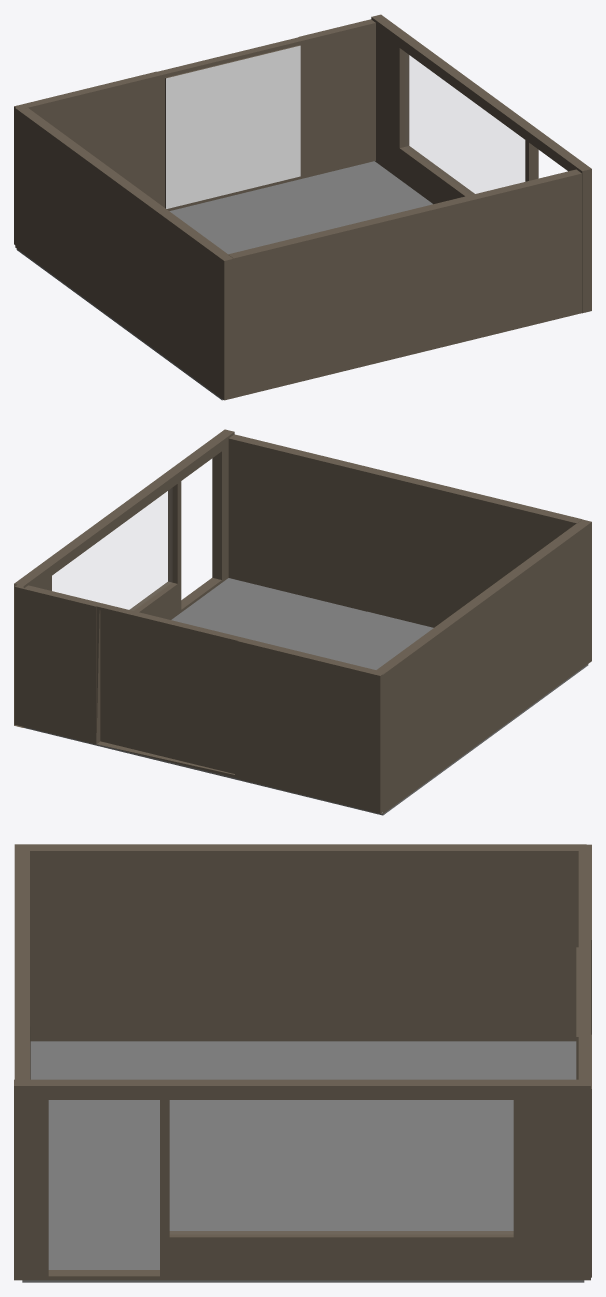
Rendered from Lab Component Walls v6-29 1600.fbx.
3 views of the same model, one above another, from view 1: azimuth 30°, elevation 25°; view 2: azimuth 150°, elevation 25°; view 3: azimuth 270°, elevation 25° (orthographic). The views are drawn at different scales.
Parts seen in each view (by area): view 1: walls, floor; view 2: walls, floor; view 3: walls, floor.
Boxes of the visible parts, <box> form: walls: <box>14,14,591,400</box>; floor: <box>16,161,432,400</box>; walls: <box>14,429,591,813</box>; floor: <box>24,578,588,815</box>; walls: <box>14,844,591,1280</box>; floor: <box>22,1041,584,1282</box>.
Size of the model in its own units: 783 by 294 by 780.
